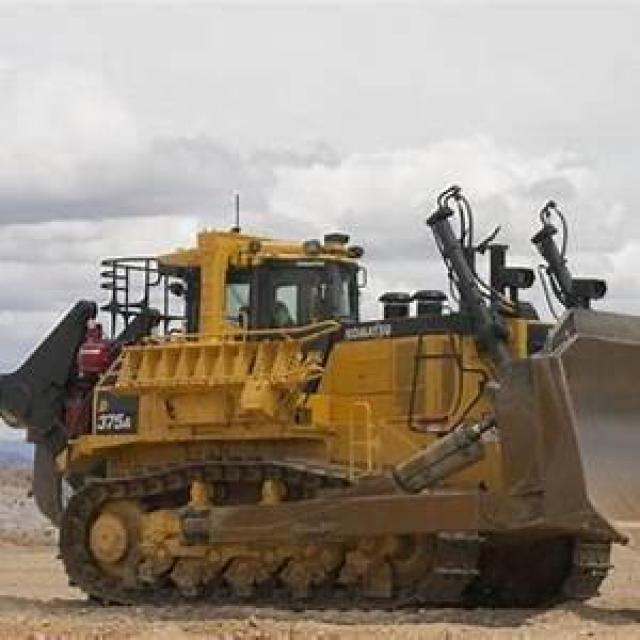buldozerpayloadergrader: (8, 212, 638, 614)
